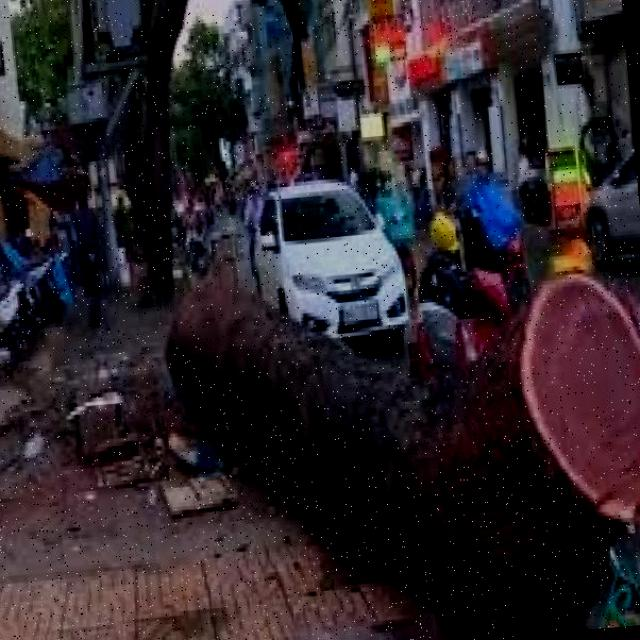fallen_object: (158, 202, 640, 640)
